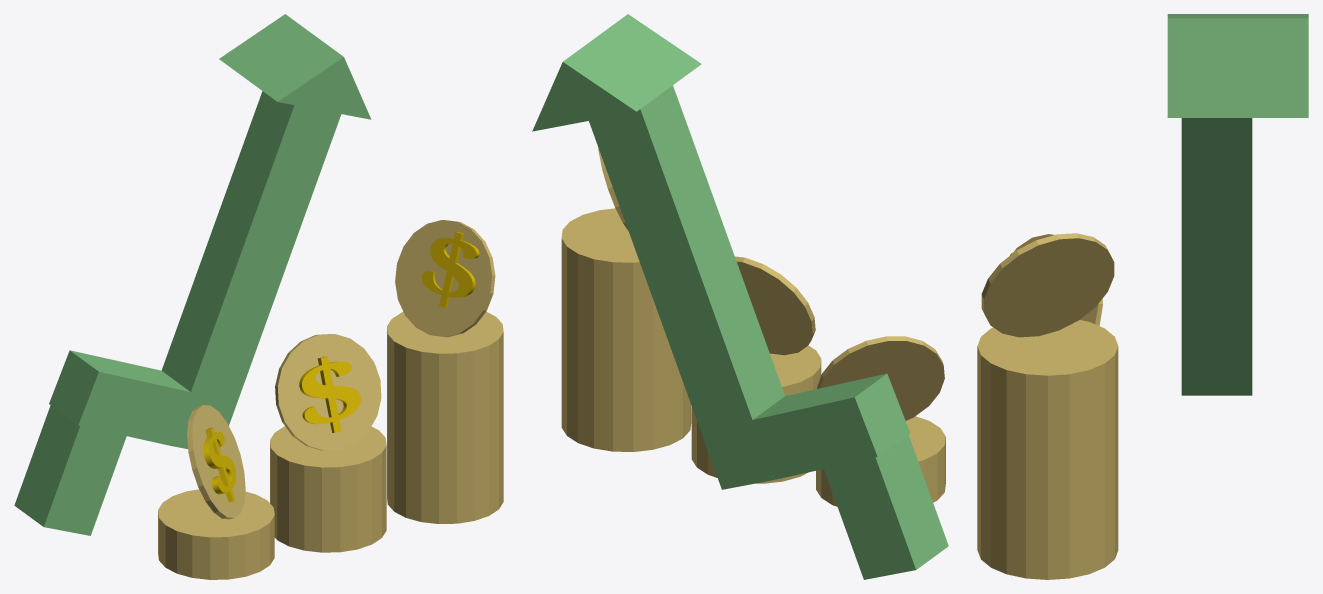
File: asset.glb
3 renders of one model, left to right at view 1: azimuth 30°, elevation 25°; view 2: azimuth 150°, elevation 25°; view 3: azimuth 270°, elevation 25°, orthographic. The views are drawn at different scales.
Visible parts, largest first — view 1: Mesh_Mesh_head_geo.001_lambert2SG.001; view 2: Mesh_Mesh_head_geo.001_lambert2SG.001; view 3: Mesh_Mesh_head_geo.001_lambert2SG.001.
Part boxes in pixels (x1,y1,x2,y2): Mesh_Mesh_head_geo.001_lambert2SG.001: [14, 14, 503, 579]; Mesh_Mesh_head_geo.001_lambert2SG.001: [532, 14, 948, 579]; Mesh_Mesh_head_geo.001_lambert2SG.001: [977, 14, 1308, 579].
Size of the model in its own units: 77.98 by 79.47 by 47.
